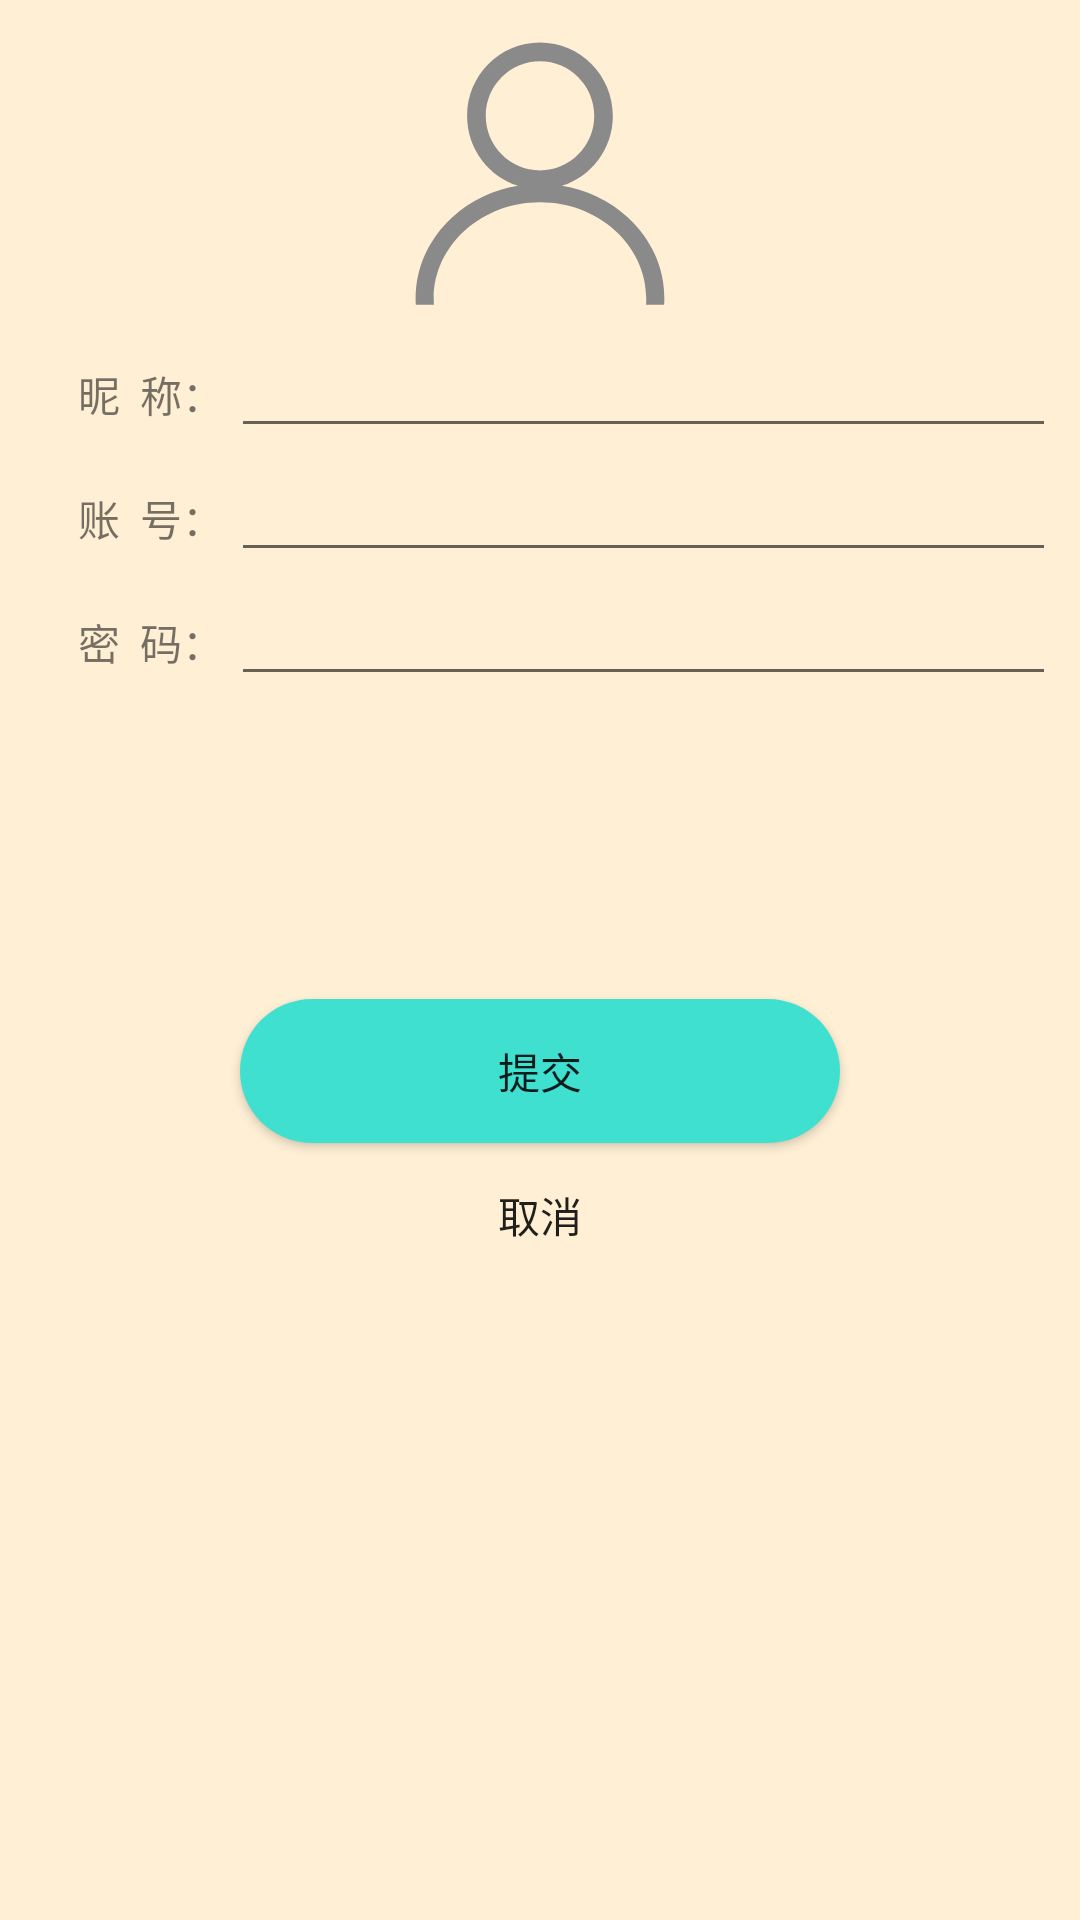

Screen size 1080px x 1920px. Icon name, then its center in pixels as (x,y):
user: (540,173)
